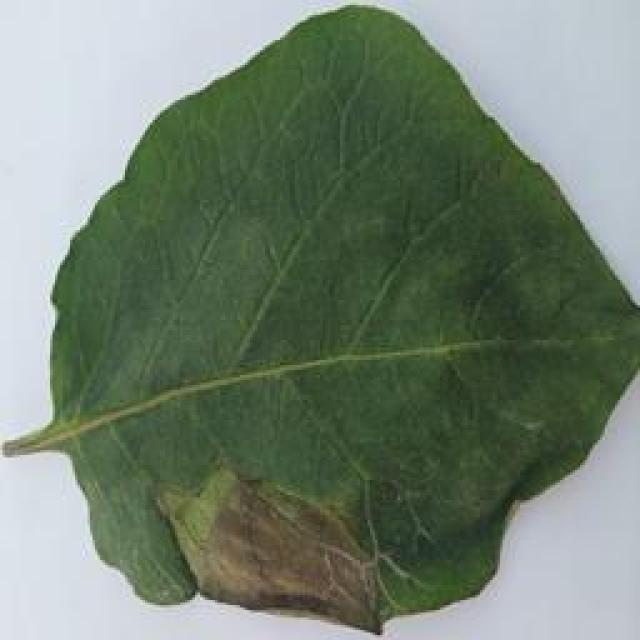Potato_Late_Blight: (6, 6, 628, 632)
